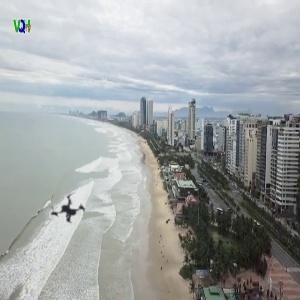drone: (20, 160, 117, 257)
